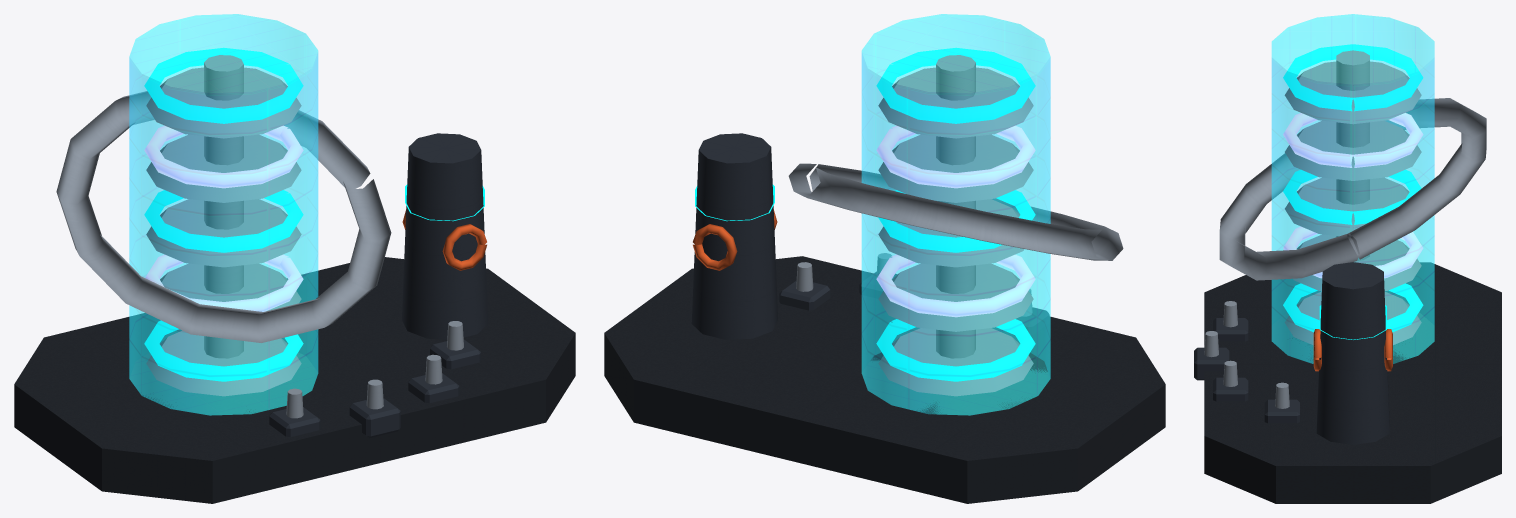
The model's file is prop_03_r1_05.glb.
3 views of the same model, side by side, from view 1: azimuth 30°, elevation 25°; view 2: azimuth 150°, elevation 25°; view 3: azimuth 270°, elevation 25° (orthographic). The views are drawn at different scales.
Visible parts, largest first — view 1: Prop03_C05_gunmetal, Prop03_C05_glass_cyan, Prop03_C05_steel_machined, Prop03_C05_carbon_slate, Prop03_C05_led_cyan, Prop03_C05_led_uv, Prop03_C05_accent_orange; view 2: Prop03_C05_gunmetal, Prop03_C05_glass_cyan, Prop03_C05_steel_machined, Prop03_C05_carbon_slate, Prop03_C05_led_cyan, Prop03_C05_led_uv, Prop03_C05_accent_orange; view 3: Prop03_C05_gunmetal, Prop03_C05_glass_cyan, Prop03_C05_steel_machined, Prop03_C05_carbon_slate, Prop03_C05_led_cyan, Prop03_C05_led_uv, Prop03_C05_accent_orange.
Part boxes in pixels (x1=…): Prop03_C05_gunmetal: x1=14, y1=257, x2=575, y2=503; Prop03_C05_glass_cyan: x1=129, y1=14, x2=318, y2=415; Prop03_C05_steel_machined: x1=56, y1=55, x2=463, y2=418; Prop03_C05_carbon_slate: x1=269, y1=133, x2=488, y2=438; Prop03_C05_led_cyan: x1=144, y1=48, x2=484, y2=381; Prop03_C05_led_uv: x1=144, y1=125, x2=303, y2=311; Prop03_C05_accent_orange: x1=402, y1=209, x2=486, y2=270; Prop03_C05_gunmetal: x1=604, y1=256, x2=1165, y2=503; Prop03_C05_glass_cyan: x1=861, y1=14, x2=1050, y2=415; Prop03_C05_steel_machined: x1=788, y1=55, x2=1123, y2=396; Prop03_C05_carbon_slate: x1=691, y1=133, x2=1049, y2=339; Prop03_C05_led_cyan: x1=695, y1=48, x2=1035, y2=381; Prop03_C05_led_uv: x1=876, y1=125, x2=1035, y2=317; Prop03_C05_accent_orange: x1=693, y1=209, x2=777, y2=270; Prop03_C05_gunmetal: x1=1204, y1=262, x2=1501, y2=503; Prop03_C05_glass_cyan: x1=1271, y1=14, x2=1434, y2=363; Prop03_C05_steel_machined: x1=1204, y1=50, x2=1486, y2=408; Prop03_C05_carbon_slate: x1=1194, y1=262, x2=1389, y2=444; Prop03_C05_led_cyan: x1=1283, y1=44, x2=1423, y2=339; Prop03_C05_led_uv: x1=1283, y1=113, x2=1423, y2=278; Prop03_C05_accent_orange: x1=1313, y1=329, x2=1392, y2=371.
Size of the model in its own units: 3 by 2.21 by 1.91.
Materials: 7 (7 with a texture image).
